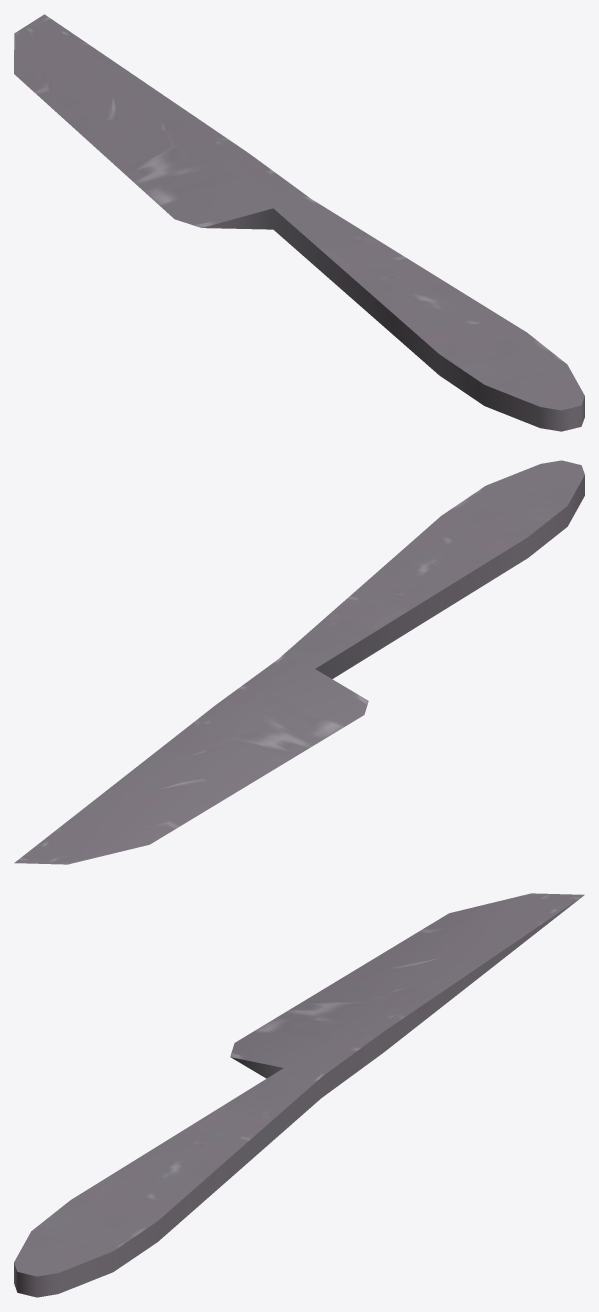
Rendered from Table_Knife.glb.
3 views of the same model, one above another, from view 1: azimuth 30°, elevation 25°; view 2: azimuth 150°, elevation 25°; view 3: azimuth 330°, elevation 25° (orthographic).
Parts seen in each view (by area): view 1: Table_Knife; view 2: Table_Knife; view 3: Table_Knife.
Boxes of the visible parts, left/top/right/bottom form: Table_Knife: left=14, top=14, right=584, bottom=431; Table_Knife: left=14, top=460, right=584, bottom=864; Table_Knife: left=14, top=893, right=584, bottom=1297.
Size of the model in its own units: 0.0417 by 0.00616 by 0.2866.
Materials: 1 (1 with a texture image).
